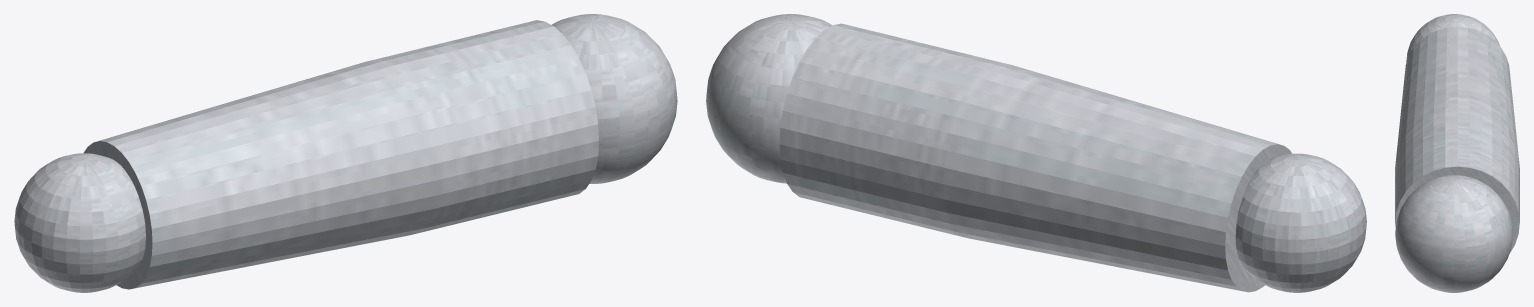
Rendered from arm2.obj.
3 renders of one model, left to right at view 1: azimuth 30°, elevation 25°; view 2: azimuth 150°, elevation 25°; view 3: azimuth 270°, elevation 25°, orthographic. The views are drawn at different scales.
Visible parts, largest first — view 1: Limb1_Cylinder.001, Sphere, Sphere.001; view 2: Limb1_Cylinder.001, Sphere, Sphere.001; view 3: Limb1_Cylinder.001, Sphere.001, Sphere.
Part boxes in pixels (box(x1,y1,x2,y2)): Limb1_Cylinder.001: box(83, 20, 598, 289); Sphere: box(14, 153, 145, 292); Sphere.001: box(552, 14, 677, 183); Limb1_Cylinder.001: box(779, 23, 1291, 292); Sphere: box(1235, 153, 1366, 292); Sphere.001: box(706, 14, 832, 183); Limb1_Cylinder.001: box(1395, 26, 1519, 253); Sphere.001: box(1395, 175, 1512, 292); Sphere: box(1406, 14, 1499, 62).
Size of the model in its own units: 0.9643 by 0.2339 by 0.2339.
3 materials, 3 textured.
